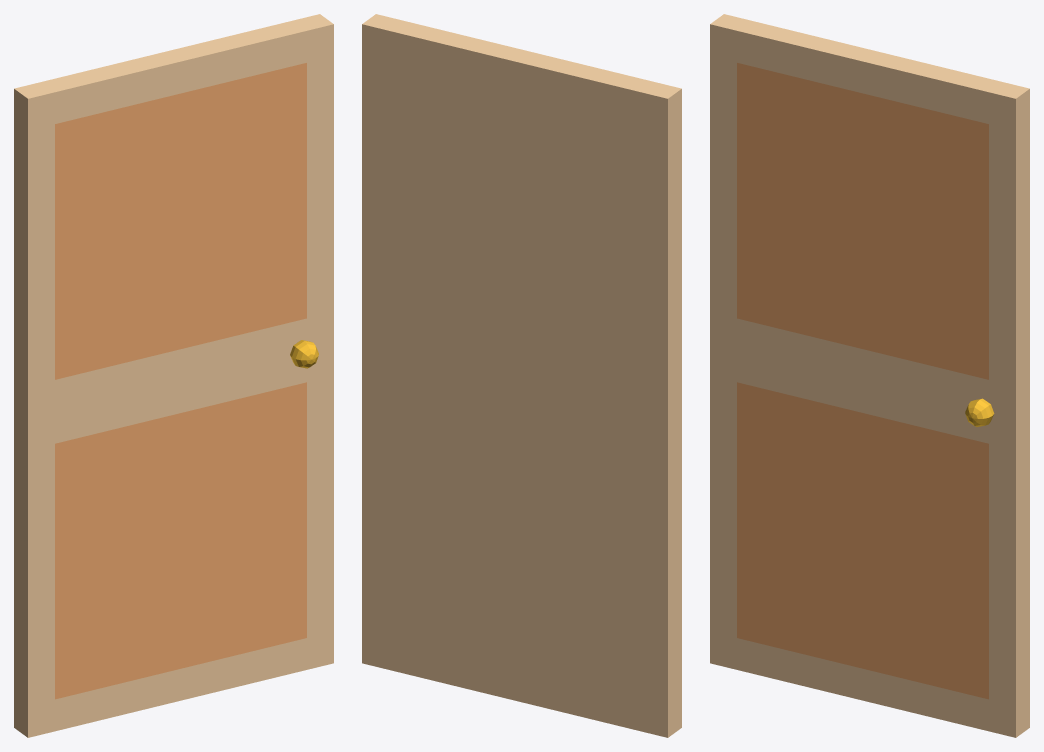
Rendered from Door_m01_3.fbx.
3 renders of one model, left to right at view 1: azimuth 30°, elevation 25°; view 2: azimuth 150°, elevation 25°; view 3: azimuth 330°, elevation 25°, orthographic.
Visible parts, largest first — view 1: Door_m01_3; view 2: Door_m01_3; view 3: Door_m01_3.
Part boxes in pixels (x1=…): Door_m01_3: x1=14, y1=14, x2=333, y2=737; Door_m01_3: x1=362, y1=14, x2=681, y2=737; Door_m01_3: x1=710, y1=14, x2=1029, y2=737.
Bounding box in the file's own units: 577 × 1152 × 80.74.
1 material, 1 textured.
